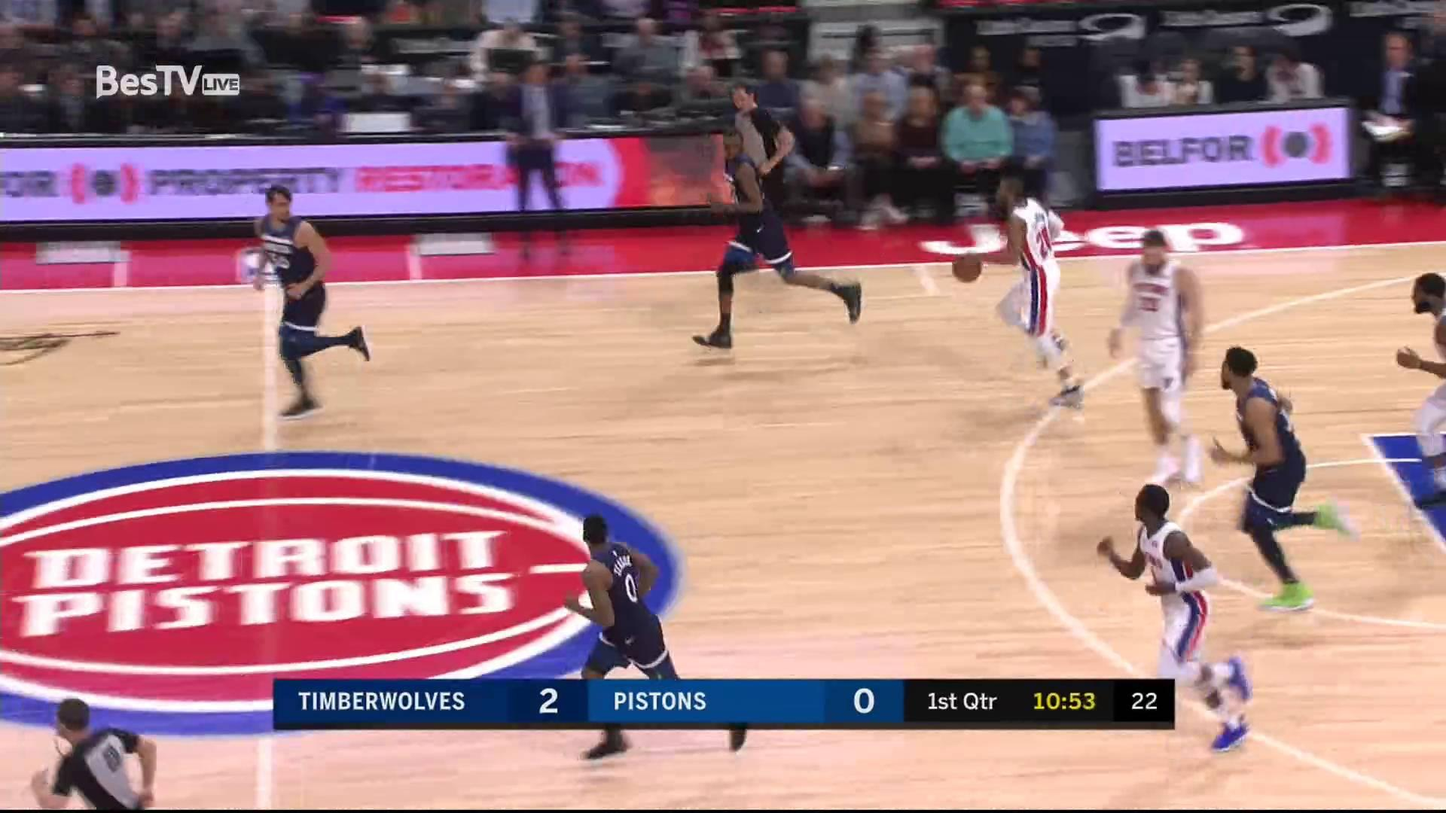basketball: (950, 251, 979, 284)
